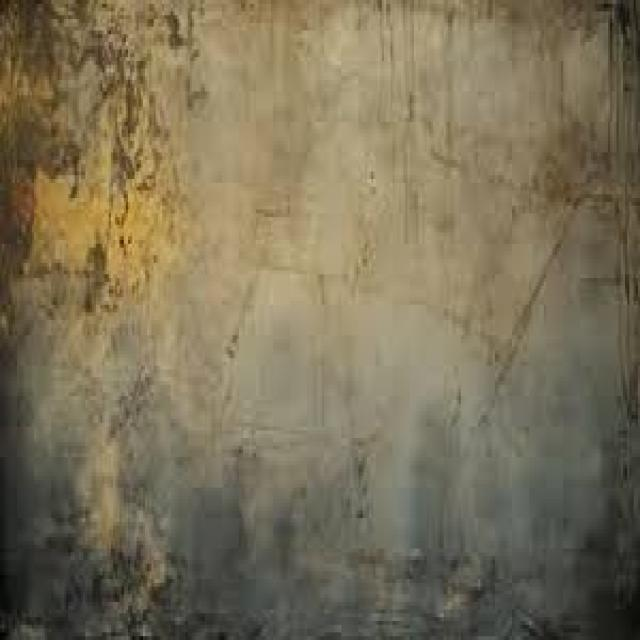Bacterial Injury: (29, 120, 180, 306)
Rotten surface: (46, 412, 201, 611), (521, 114, 625, 230)
